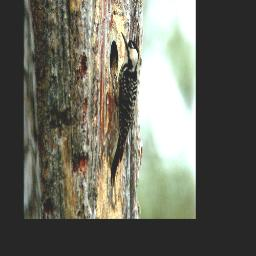Woodpecker: (103, 27, 143, 199)
